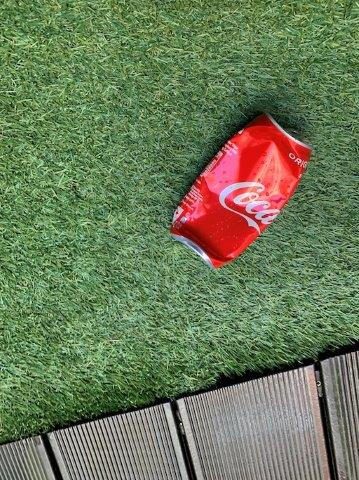kaleng: (173, 116, 311, 268)
